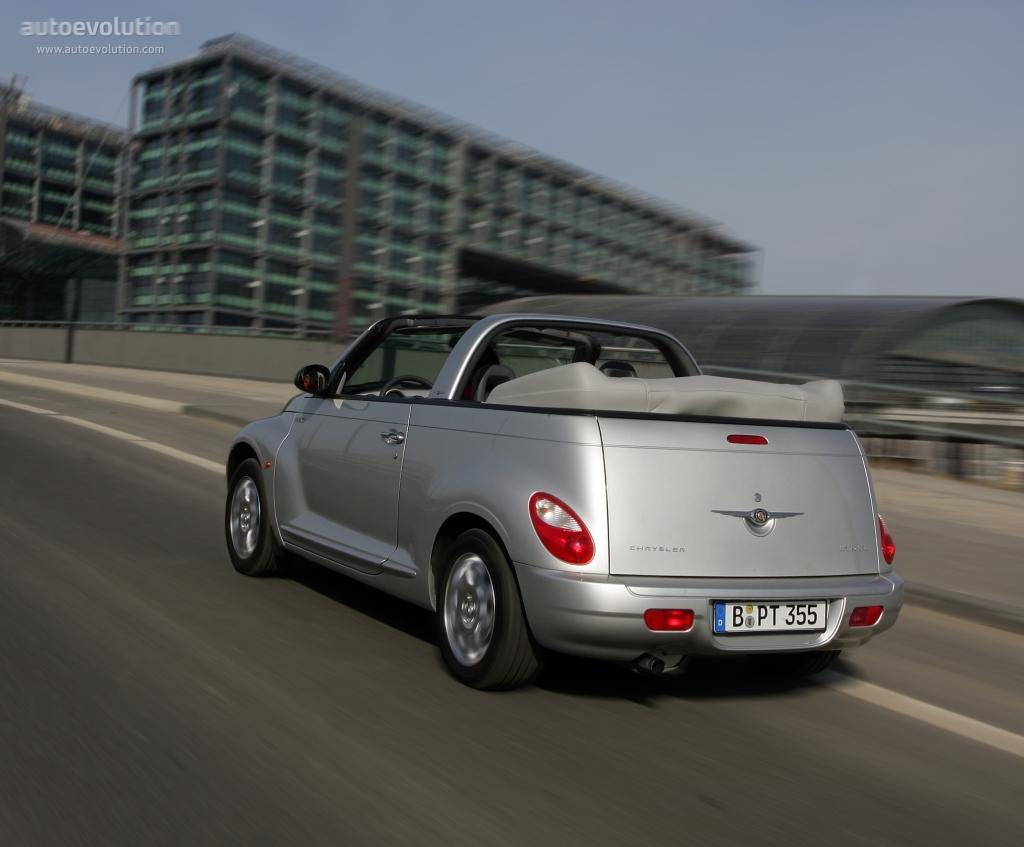Chrysler: (704, 504, 809, 537)
